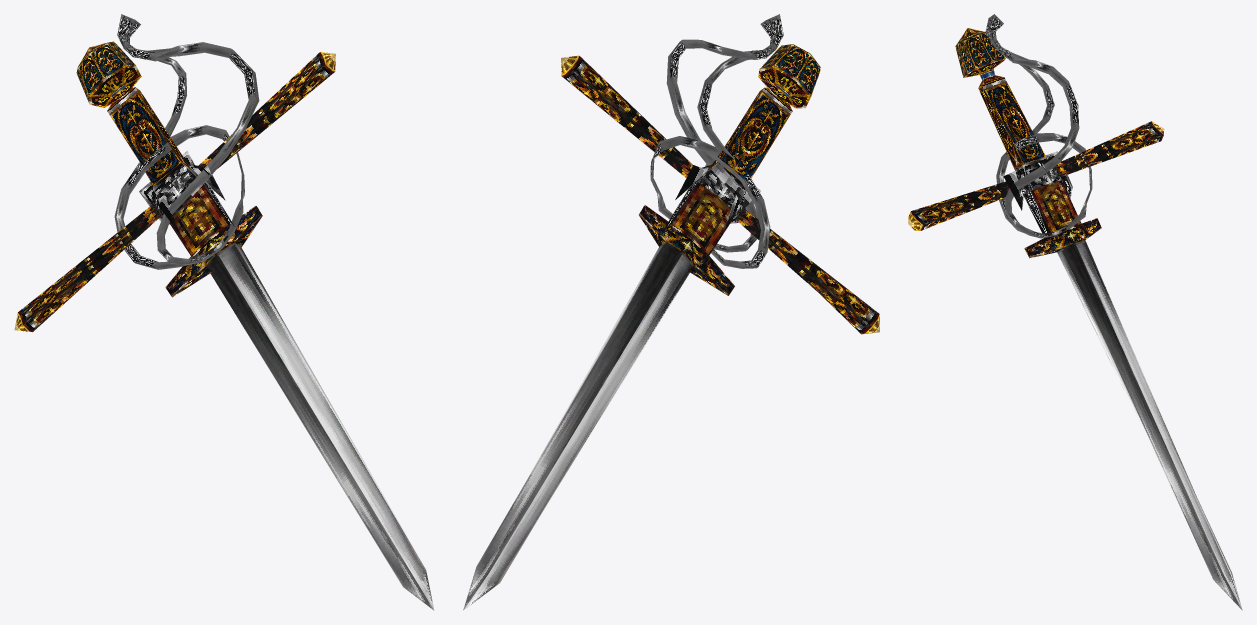
Rendered from ps2_save-icons_ageofempires2theageofkings.glb.
3 renders of one model, left to right at view 1: azimuth 30°, elevation 25°; view 2: azimuth 150°, elevation 25°; view 3: azimuth 330°, elevation 25°, orthographic. The views are drawn at different scales.
Parts seen in each view (by area): view 1: icon1.ico; view 2: icon1.ico; view 3: icon1.ico.
Part boxes in pixels (box(x1,y1,x2,y2)): icon1.ico: box(14, 14, 434, 610); icon1.ico: box(463, 14, 879, 610); icon1.ico: box(908, 14, 1242, 610).
Bounding box in the file's own units: 2.92 × 4.46 × 0.2991.
1 material, 1 textured.
